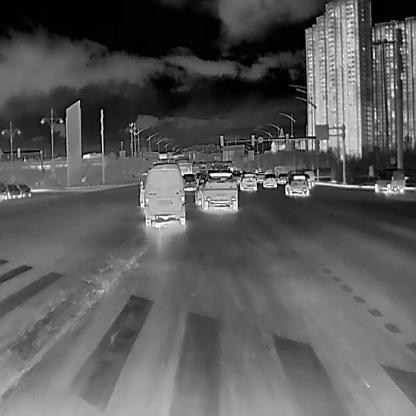car: (143, 164, 187, 226), (201, 168, 238, 212), (374, 168, 404, 194), (284, 172, 309, 194), (239, 171, 257, 191), (179, 172, 197, 190), (138, 172, 147, 207), (194, 177, 204, 205), (16, 181, 31, 197), (262, 171, 276, 188), (5, 183, 20, 198), (276, 172, 287, 184), (255, 170, 264, 183)
